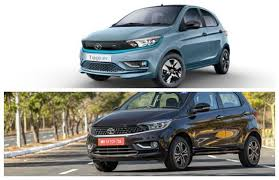Tiago: (83, 92, 263, 178), (77, 3, 232, 88)
